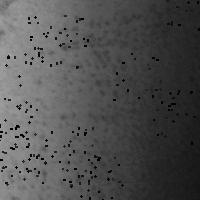pitted_surface: (45, 12, 162, 195), (34, 127, 94, 185), (113, 53, 171, 109), (28, 15, 87, 67), (63, 154, 121, 200), (153, 90, 200, 145), (0, 98, 36, 156), (0, 124, 34, 183), (0, 53, 31, 105), (166, 0, 200, 30)
